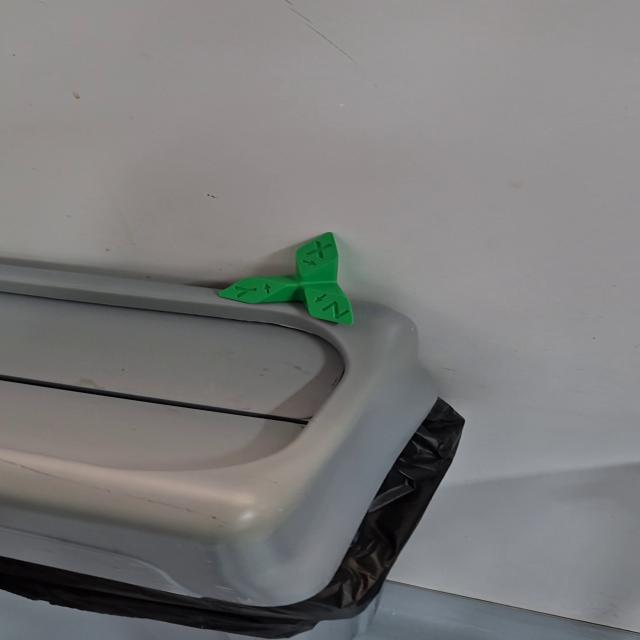objects: (216, 231, 356, 327)
